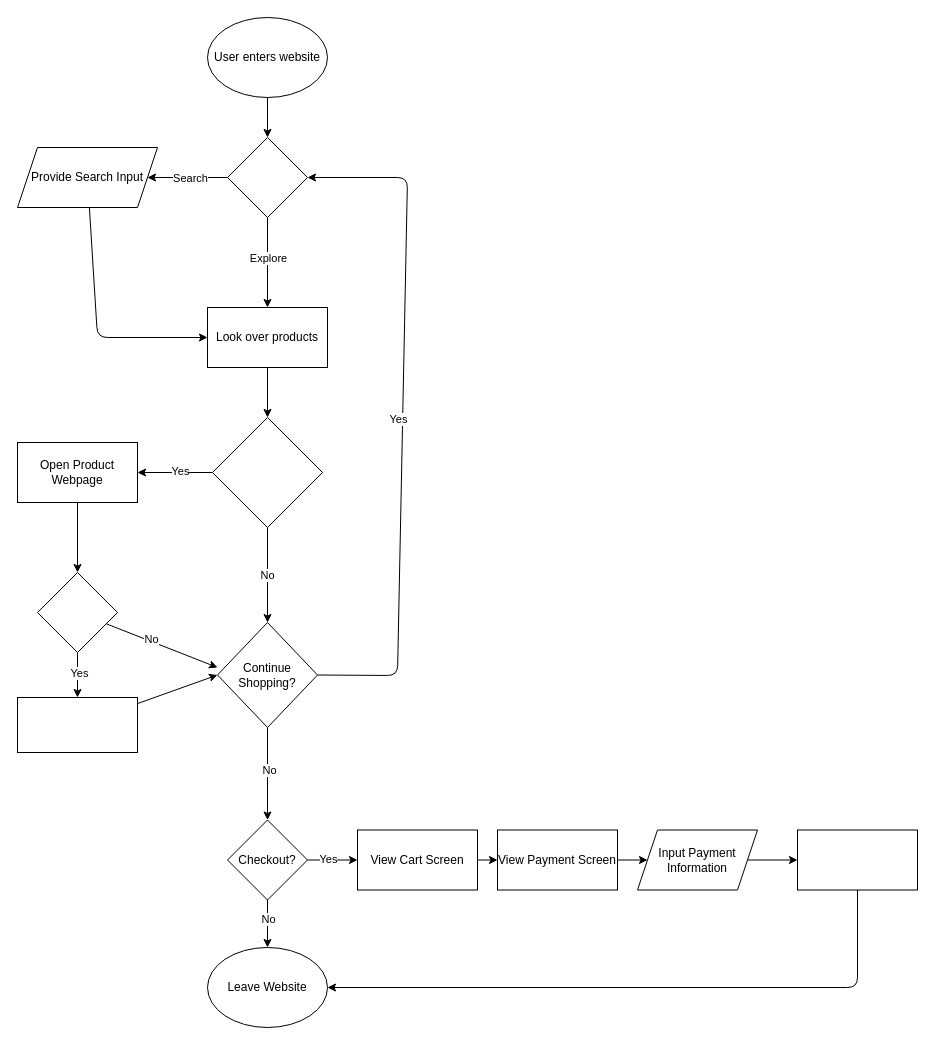
Some shapes in this 943 by 1045 pixel diagram are drawn without their labels. The shapes that lost their labels are listed below. From the top down, each one's centre as x and y in pixels, then its label:
(267,177): Search or Explore
(267,472): View Specific Product?
(77,612): Add to Cart?
(77,724): Added to Cart
(857,859): Show Order Confirmation & Send Email
